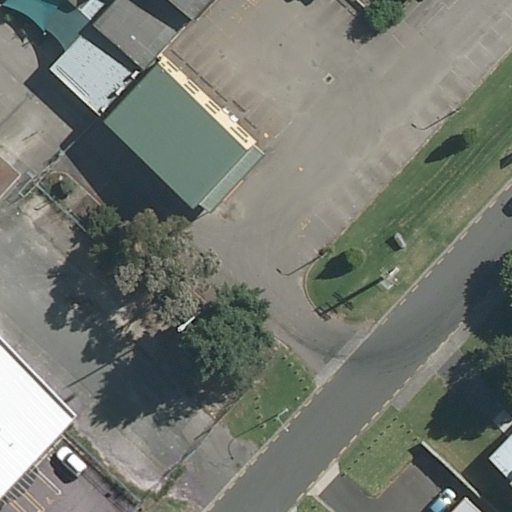DT: (377, 263, 403, 293)
